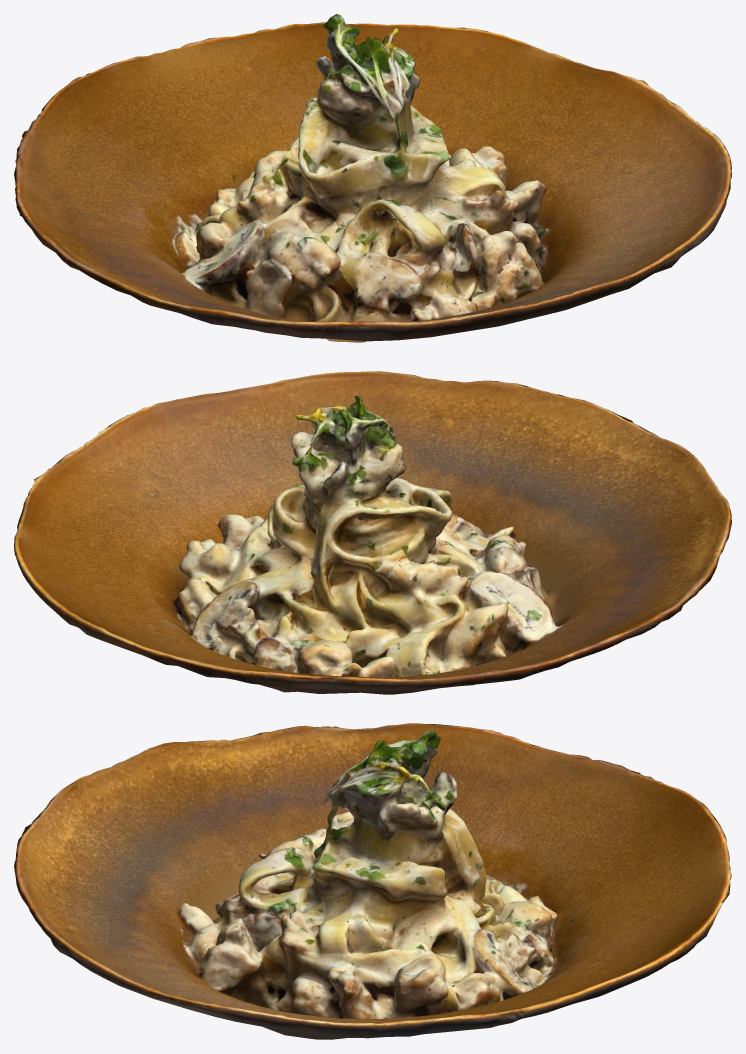
The model's file is tagliatelles-poulet-champignons.ar.glb.
The picture shows the model from 3 angles, top to bottom: view 1: azimuth 30°, elevation 25°; view 2: azimuth 150°, elevation 25°; view 3: azimuth 270°, elevation 25°; orthographic projection.
Visible parts, largest first — view 1: /ObjectCapture/Geometry/Mesh; view 2: /ObjectCapture/Geometry/Mesh; view 3: /ObjectCapture/Geometry/Mesh.
Boxes of the visible parts, left/top/right/bottom form: /ObjectCapture/Geometry/Mesh: left=14, top=14, right=731, bottom=342; /ObjectCapture/Geometry/Mesh: left=14, top=371, right=731, bottom=694; /ObjectCapture/Geometry/Mesh: left=14, top=723, right=731, bottom=1039.
Bounding box in the file's own units: 0.2664 × 0.1053 × 0.2713.
1 material, 1 textured.
